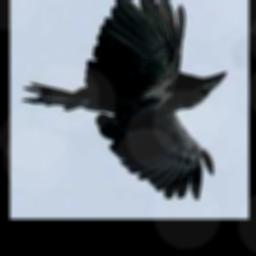Crow: (21, 0, 227, 199)
